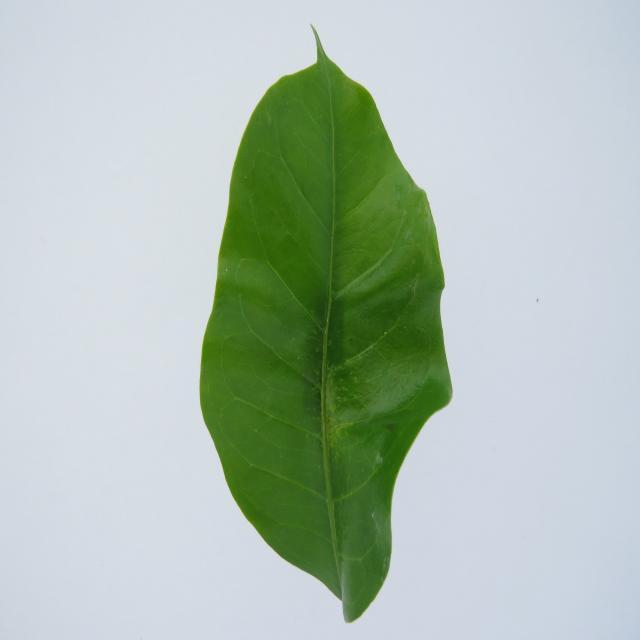DeficienciaNutricional-Calcio: (200, 32, 451, 622)
